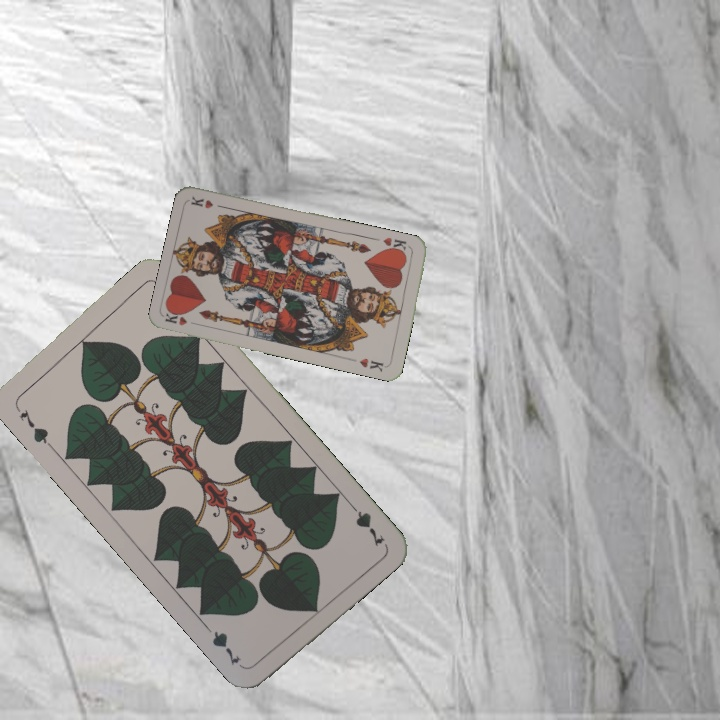G7: (344, 497, 387, 550), (16, 405, 55, 450)
HK: (162, 307, 203, 329), (379, 233, 414, 256)
